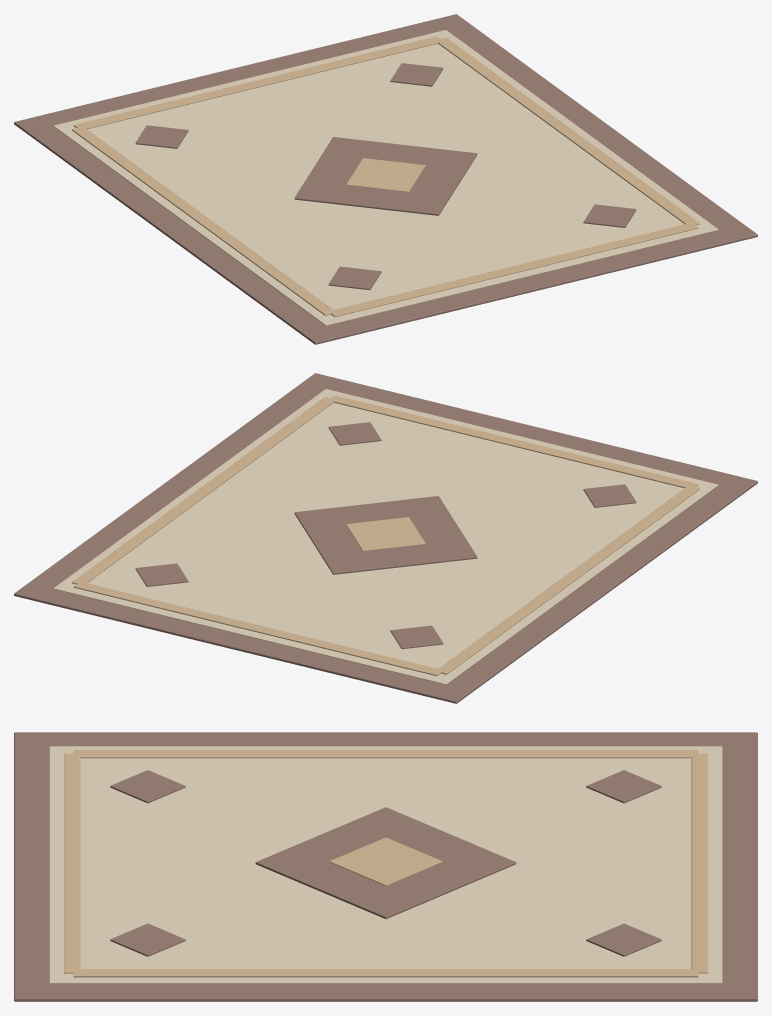
File: entry_rug.glb
3 renders of one model, top to bottom at view 1: azimuth 30°, elevation 25°; view 2: azimuth 150°, elevation 25°; view 3: azimuth 270°, elevation 25°, orthographic. The views are drawn at different scales.
Visible parts, largest first — view 1: arrival_dressing_entry_002_entry_rug_field, arrival_dressing_entry_001_entry_rug_body, arrival_dressing_entry_007_entry_centre_medallion, arrival_dressing_entry_003_entry_long_border_-1, arrival_dressing_entry_005_entry_long_border_1, arrival_dressing_entry_006_entry_end_border_1, arrival_dressing_entry_004_entry_end_border_-1, arrival_dressing_entry_008_entry_centre_inlay, arrival_dressing_entry_009_entry_corner_mark_-0.61_-0.8, arrival_dressing_entry_011_entry_corner_mark_0.61_-0.8, arrival_dressing_entry_012_entry_corner_mark_0.61_0.8, arrival_dressing_entry_010_entry_corner_mark_-0.61_0.8; view 2: arrival_dressing_entry_002_entry_rug_field, arrival_dressing_entry_001_entry_rug_body, arrival_dressing_entry_007_entry_centre_medallion, arrival_dressing_entry_003_entry_long_border_-1, arrival_dressing_entry_005_entry_long_border_1, arrival_dressing_entry_004_entry_end_border_-1, arrival_dressing_entry_006_entry_end_border_1, arrival_dressing_entry_008_entry_centre_inlay, arrival_dressing_entry_010_entry_corner_mark_-0.61_0.8, arrival_dressing_entry_012_entry_corner_mark_0.61_0.8, arrival_dressing_entry_011_entry_corner_mark_0.61_-0.8, arrival_dressing_entry_009_entry_corner_mark_-0.61_-0.8; view 3: arrival_dressing_entry_002_entry_rug_field, arrival_dressing_entry_001_entry_rug_body, arrival_dressing_entry_007_entry_centre_medallion, arrival_dressing_entry_003_entry_long_border_-1, arrival_dressing_entry_005_entry_long_border_1, arrival_dressing_entry_006_entry_end_border_1, arrival_dressing_entry_004_entry_end_border_-1, arrival_dressing_entry_008_entry_centre_inlay, arrival_dressing_entry_011_entry_corner_mark_0.61_-0.8, arrival_dressing_entry_012_entry_corner_mark_0.61_0.8, arrival_dressing_entry_009_entry_corner_mark_-0.61_-0.8, arrival_dressing_entry_010_entry_corner_mark_-0.61_0.8.
Part boxes in pixels (box(x1,y1,x2,y2)): arrival_dressing_entry_002_entry_rug_field: box(53, 30, 718, 325); arrival_dressing_entry_001_entry_rug_body: box(14, 14, 757, 344); arrival_dressing_entry_007_entry_centre_medallion: box(294, 137, 477, 215); arrival_dressing_entry_003_entry_long_border_-1: box(72, 126, 335, 315); arrival_dressing_entry_005_entry_long_border_1: box(437, 38, 699, 225); arrival_dressing_entry_006_entry_end_border_1: box(329, 223, 698, 316); arrival_dressing_entry_004_entry_end_border_-1: box(73, 36, 442, 129); arrival_dressing_entry_008_entry_centre_inlay: box(346, 158, 425, 192); arrival_dressing_entry_009_entry_corner_mark_-0.61_-0.8: box(135, 125, 188, 148); arrival_dressing_entry_011_entry_corner_mark_0.61_-0.8: box(390, 63, 443, 86); arrival_dressing_entry_012_entry_corner_mark_0.61_0.8: box(583, 204, 636, 227); arrival_dressing_entry_010_entry_corner_mark_-0.61_0.8: box(328, 266, 381, 289); arrival_dressing_entry_002_entry_rug_field: box(53, 389, 718, 684); arrival_dressing_entry_001_entry_rug_body: box(14, 373, 757, 703); arrival_dressing_entry_007_entry_centre_medallion: box(294, 496, 477, 574); arrival_dressing_entry_003_entry_long_border_-1: box(436, 485, 699, 674); arrival_dressing_entry_005_entry_long_border_1: box(72, 397, 335, 584); arrival_dressing_entry_004_entry_end_border_-1: box(73, 581, 442, 675); arrival_dressing_entry_006_entry_end_border_1: box(329, 395, 698, 488); arrival_dressing_entry_008_entry_centre_inlay: box(346, 517, 425, 551); arrival_dressing_entry_010_entry_corner_mark_-0.61_0.8: box(583, 484, 636, 507); arrival_dressing_entry_012_entry_corner_mark_0.61_0.8: box(328, 422, 381, 445); arrival_dressing_entry_011_entry_corner_mark_0.61_-0.8: box(135, 563, 188, 586); arrival_dressing_entry_009_entry_corner_mark_-0.61_-0.8: box(390, 625, 443, 648); arrival_dressing_entry_002_entry_rug_field: box(49, 746, 722, 983); arrival_dressing_entry_001_entry_rug_body: box(14, 732, 757, 1001); arrival_dressing_entry_007_entry_centre_medallion: box(255, 807, 516, 918); arrival_dressing_entry_003_entry_long_border_-1: box(73, 750, 698, 758); arrival_dressing_entry_005_entry_long_border_1: box(73, 969, 698, 977); arrival_dressing_entry_006_entry_end_border_1: box(64, 753, 80, 973); arrival_dressing_entry_004_entry_end_border_-1: box(691, 753, 707, 973); arrival_dressing_entry_008_entry_centre_inlay: box(329, 837, 442, 885); arrival_dressing_entry_011_entry_corner_mark_0.61_-0.8: box(586, 923, 661, 956); arrival_dressing_entry_012_entry_corner_mark_0.61_0.8: box(110, 923, 185, 956); arrival_dressing_entry_009_entry_corner_mark_-0.61_-0.8: box(586, 770, 661, 803); arrival_dressing_entry_010_entry_corner_mark_-0.61_0.8: box(110, 770, 185, 803).
Size of the model in its own units: 2.12 by 0.0275 by 2.5.
